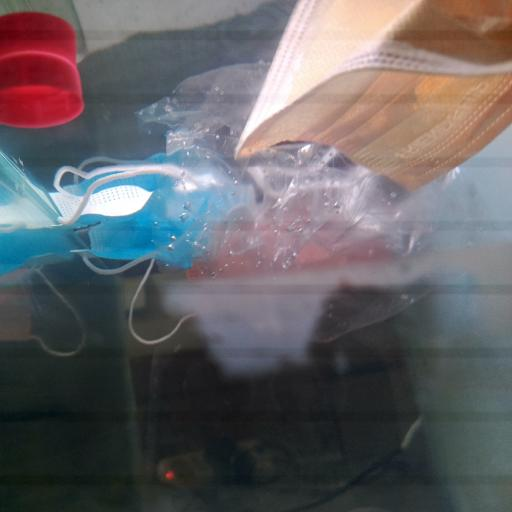bottle_cap: (0, 58, 88, 126)
mask: (241, 0, 511, 192), (48, 164, 264, 270)
plastic_bag: (136, 61, 494, 311)
